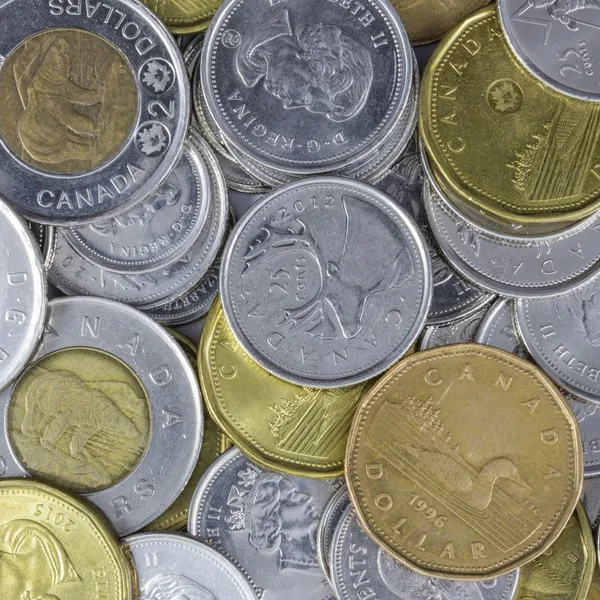coin: (346, 344, 582, 579), (0, 297, 202, 535), (220, 177, 431, 387), (0, 0, 188, 224), (420, 6, 599, 222), (201, 0, 412, 174), (198, 302, 367, 477), (188, 449, 338, 599), (65, 139, 211, 274), (330, 506, 518, 599), (0, 479, 133, 599), (515, 276, 599, 401), (498, 0, 599, 101), (0, 199, 46, 389), (124, 533, 256, 599), (515, 504, 597, 599), (391, 0, 488, 43), (316, 485, 349, 585)
